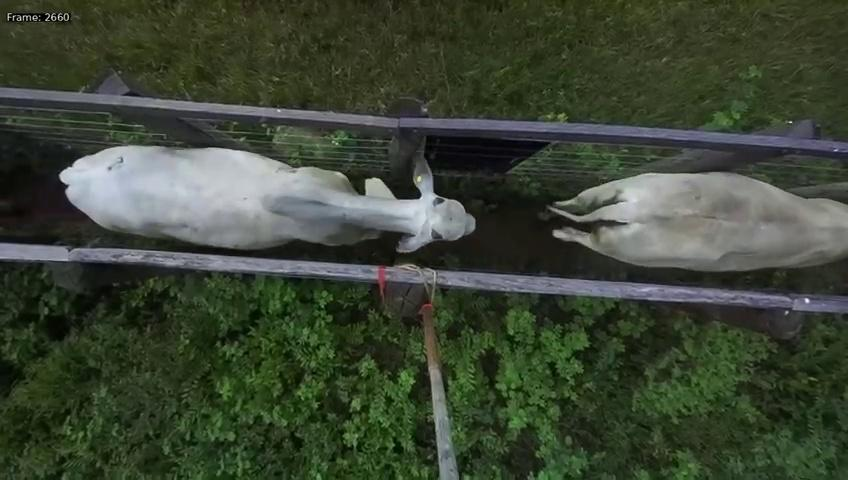cattle: (52, 135, 478, 255)
